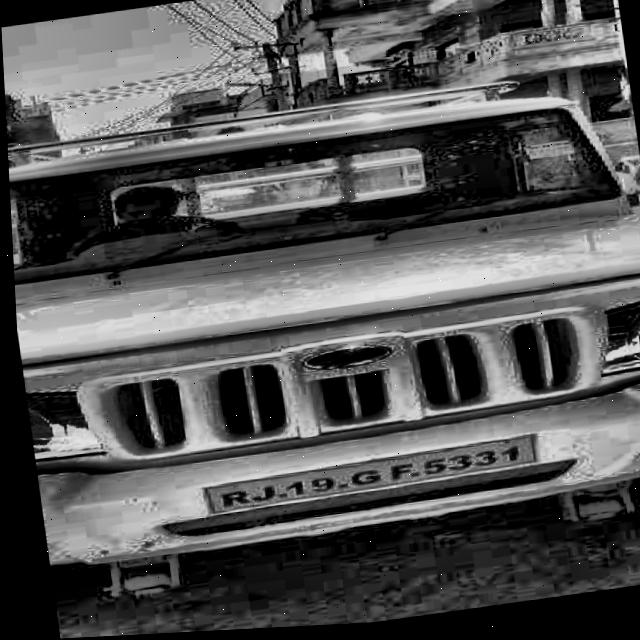light_vehicle: (4, 79, 640, 604)
